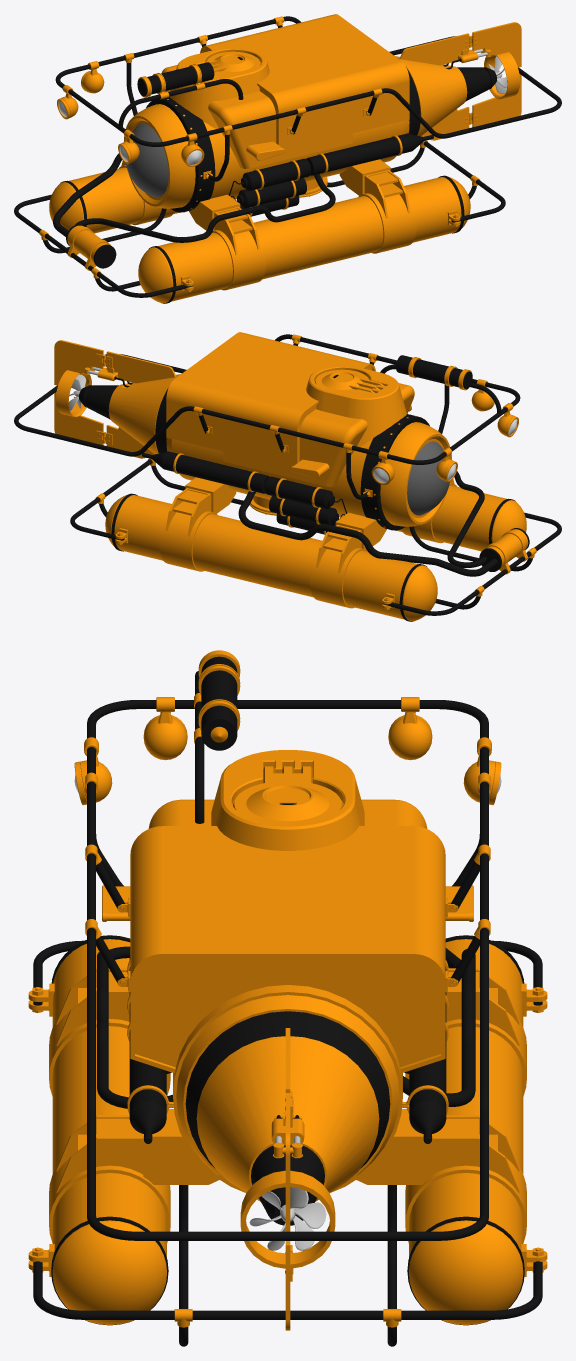
3 views of the same model, one above another, from view 1: azimuth 30°, elevation 25°; view 2: azimuth 150°, elevation 25°; view 3: azimuth 270°, elevation 25° (orthographic). The views are drawn at different scales.
Parts seen in each view (by area): view 1: _Submarine2; view 2: _Submarine2; view 3: _Submarine2.
Part boxes in pixels (x1,y1,x2,y2): _Submarine2: (14,14,561,303); _Submarine2: (14,332,561,621); _Submarine2: (28,650,547,1346).
Size of the model in its own units: 70.07 by 29.84 by 34.71.
